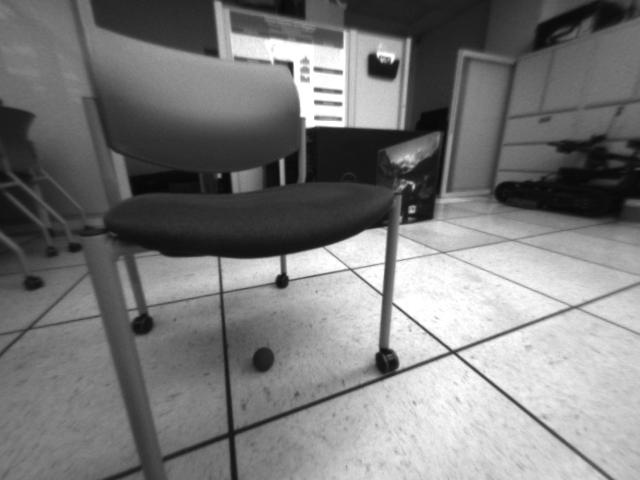dogtoy: (243, 340, 283, 376)
